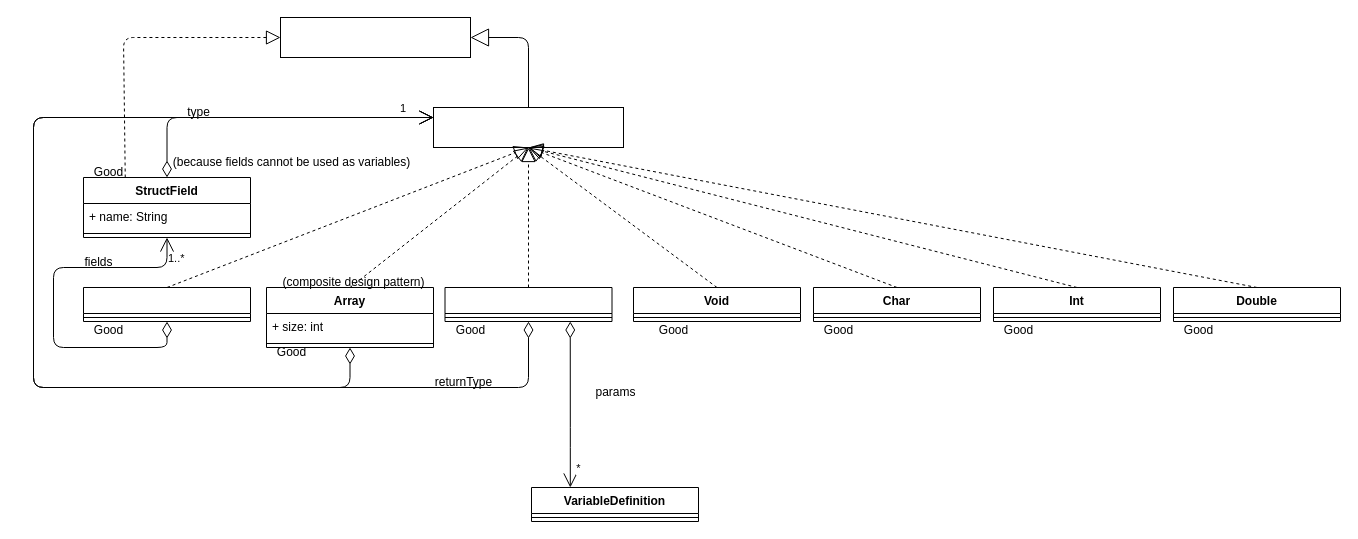
This 1358x539 diagram has some shape labels left out. The box of each missing label's shape, as (x1, y1, x2, y2) in pixels:
<<Interface>> ASTNode: (280, 16, 470, 58)
<<Interface>> Type: (432, 106, 624, 148)
Function: (444, 286, 612, 322)
Struct: (82, 286, 250, 322)
